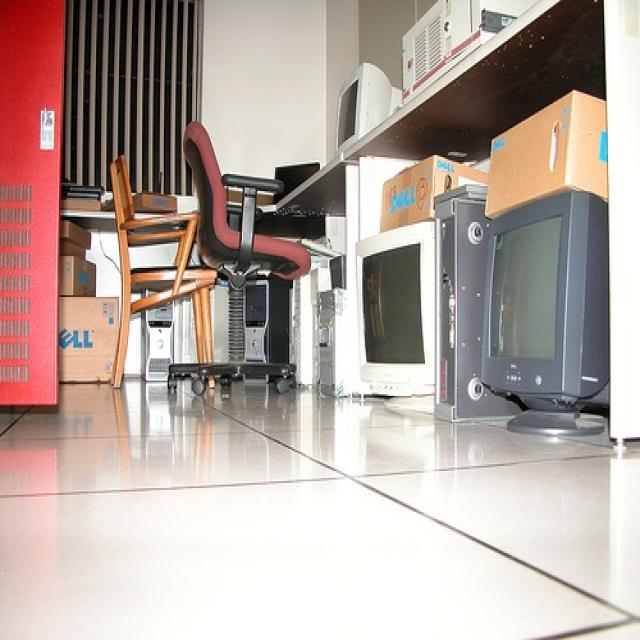chair: (166, 120, 314, 394), (104, 155, 215, 389)
tvmonitor: (482, 189, 610, 432), (352, 220, 440, 410), (336, 60, 404, 155)
